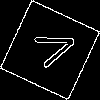V: (25, 25, 80, 72)
